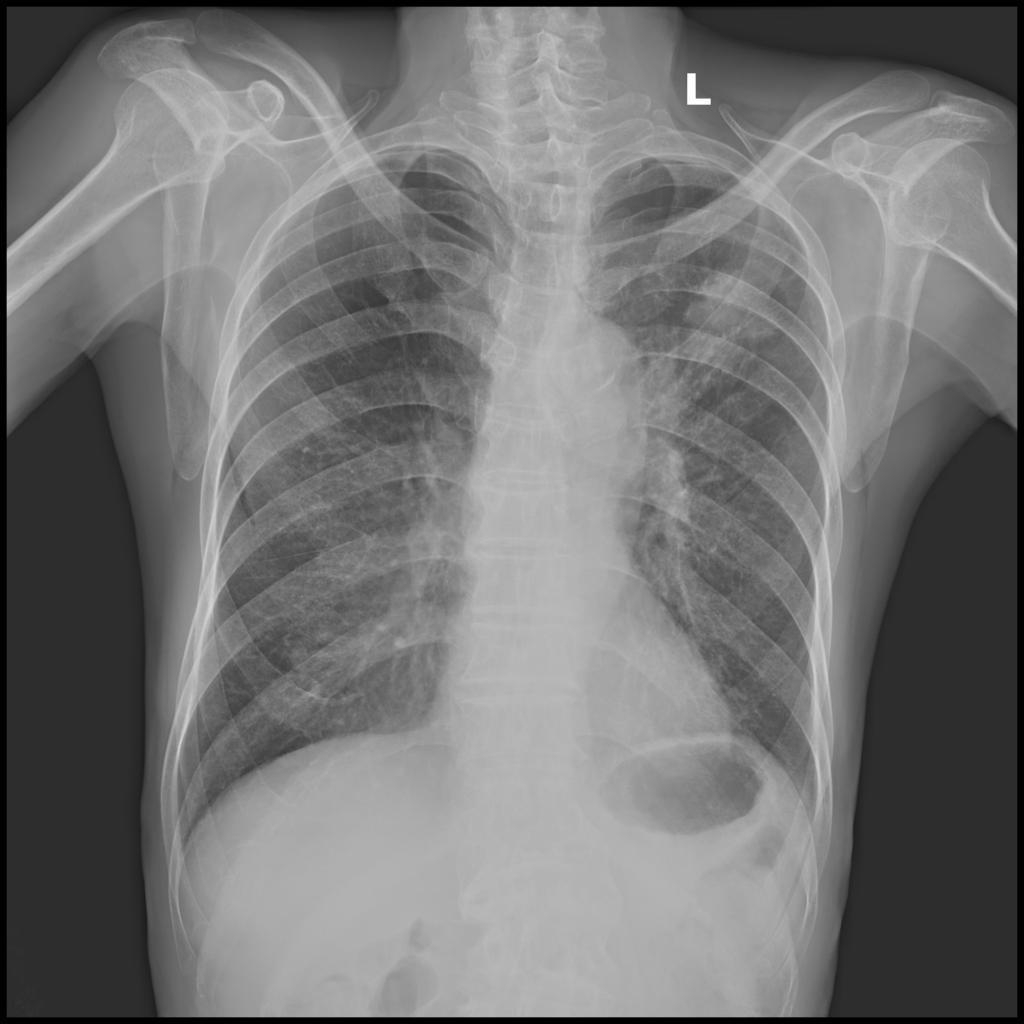Nodule: (680, 268, 781, 359)
